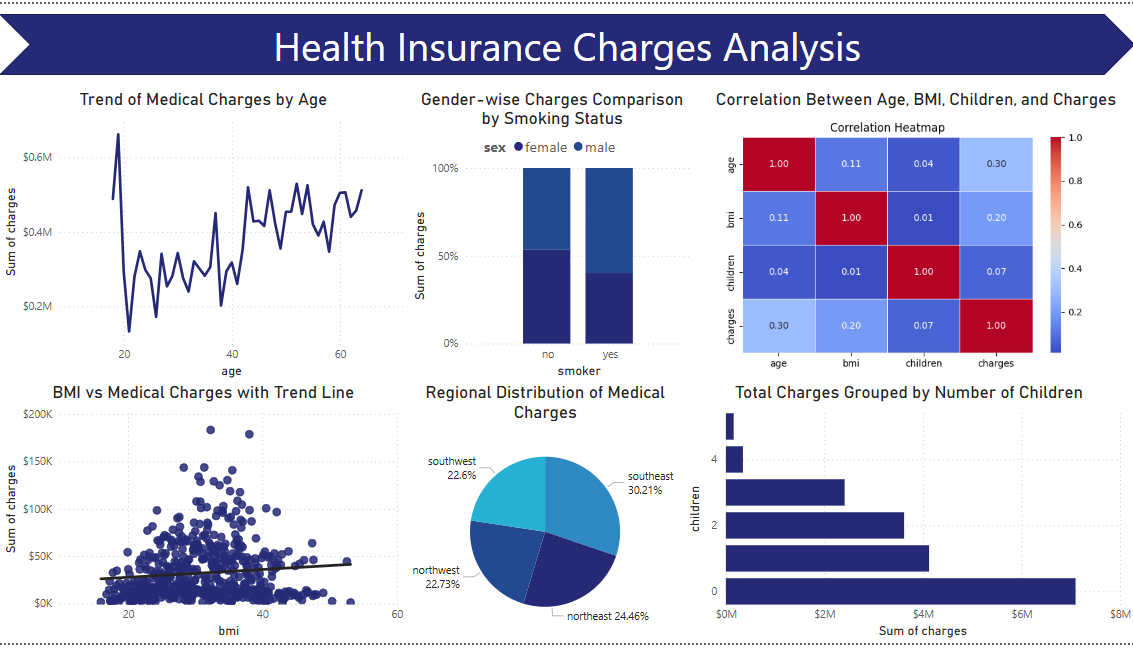

What the dashboard file says about the page in this screenshot:
{"tool":"powerbi","page":{"name":"Page 1","canvas":[1280,720],"ordinal":0},"visuals":[{"type":"lineChart","title":"Trend of Medical Charges by Age","fields":{"Y":["Sum(insurance.charges)"],"Category":["insurance.age"]},"box":[0,95.8,460.6,331],"z":0},{"type":"scatterChart","title":"BMI vs Medical Charges with Trend Line","fields":{"Y":["Sum(insurance.charges)"],"X":["insurance.bmi"]},"box":[0,426.8,460.6,293],"z":1000},{"type":"pieChart","title":"Regional Distribution of Medical Charges","fields":{"Category":["insurance.region"],"Y":["Sum(insurance.charges)"]},"box":[460.6,426.8,309.9,293],"z":2000},{"type":"hundredPercentStackedColumnChart","title":"Gender-wise Charges Comparison by Smoking Status","fields":{"Category":["insurance.smoker"],"Y":["Sum(insurance.charges)"],"Series":["insurance.sex"]},"box":[460.6,95.8,325.4,331],"z":3000},{"type":"pythonVisual","title":"Correlation Between Age, BMI, Children, and Charges","fields":{"Values":["insurance.age","insurance.bmi","insurance.children","insurance.charges"]},"box":[785.9,95.8,494.4,331],"z":4000},{"type":"clusteredBarChart","title":"Total Charges Grouped by Number of Children","fields":{"Category":["insurance.children"],"Y":["Sum(insurance.charges)"]},"box":[770.4,426.8,509.9,293],"z":5000},{"type":"shape","box":[0,11.3,1280.3,69],"z":6000}]}

Visuals, with their boxes in screenshot pixels (x1, y1, x2, y2), scaled from the page's 1280x720 canvas onto the 1133x650 screenshot:
"Trend of Medical Charges by Age" lineChart: [x1=0, y1=86, x2=408, y2=385]
"BMI vs Medical Charges with Trend Line" scatterChart: [x1=0, y1=385, x2=408, y2=649]
"Regional Distribution of Medical Charges" pieChart: [x1=408, y1=385, x2=682, y2=649]
"Gender-wise Charges Comparison by Smoking Status" hundredPercentStackedColumnChart: [x1=408, y1=86, x2=696, y2=385]
"Correlation Between Age, BMI, Children, and Charges" pythonVisual: [x1=696, y1=86, x2=1132, y2=385]
"Total Charges Grouped by Number of Children" clusteredBarChart: [x1=682, y1=385, x2=1132, y2=649]
shape: [x1=0, y1=10, x2=1132, y2=72]
